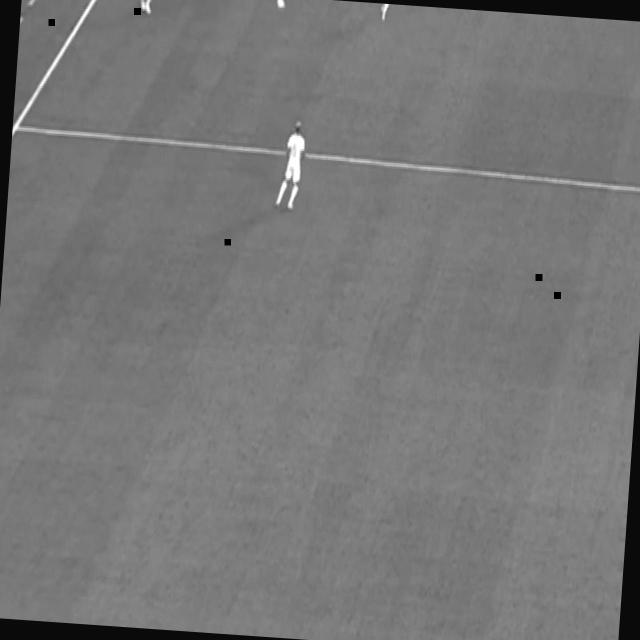ball: (274, 0, 286, 8)
player-white: (275, 118, 309, 212), (376, 3, 400, 25), (134, 0, 158, 18)
